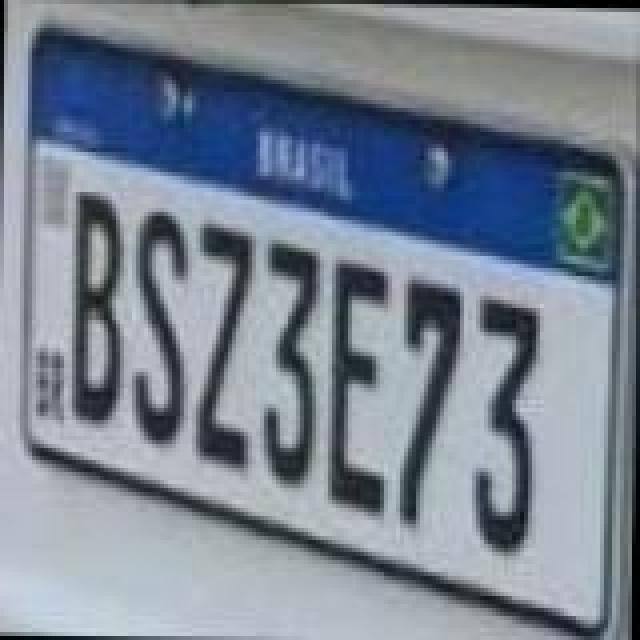3: (472, 290, 544, 554), (264, 238, 324, 486)
7: (394, 276, 462, 532)
B: (68, 186, 128, 430)
E: (322, 254, 390, 518)
S: (130, 208, 194, 444)
Z: (194, 220, 258, 468)
